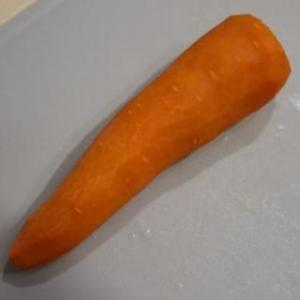carrot: (5, 13, 294, 279)
